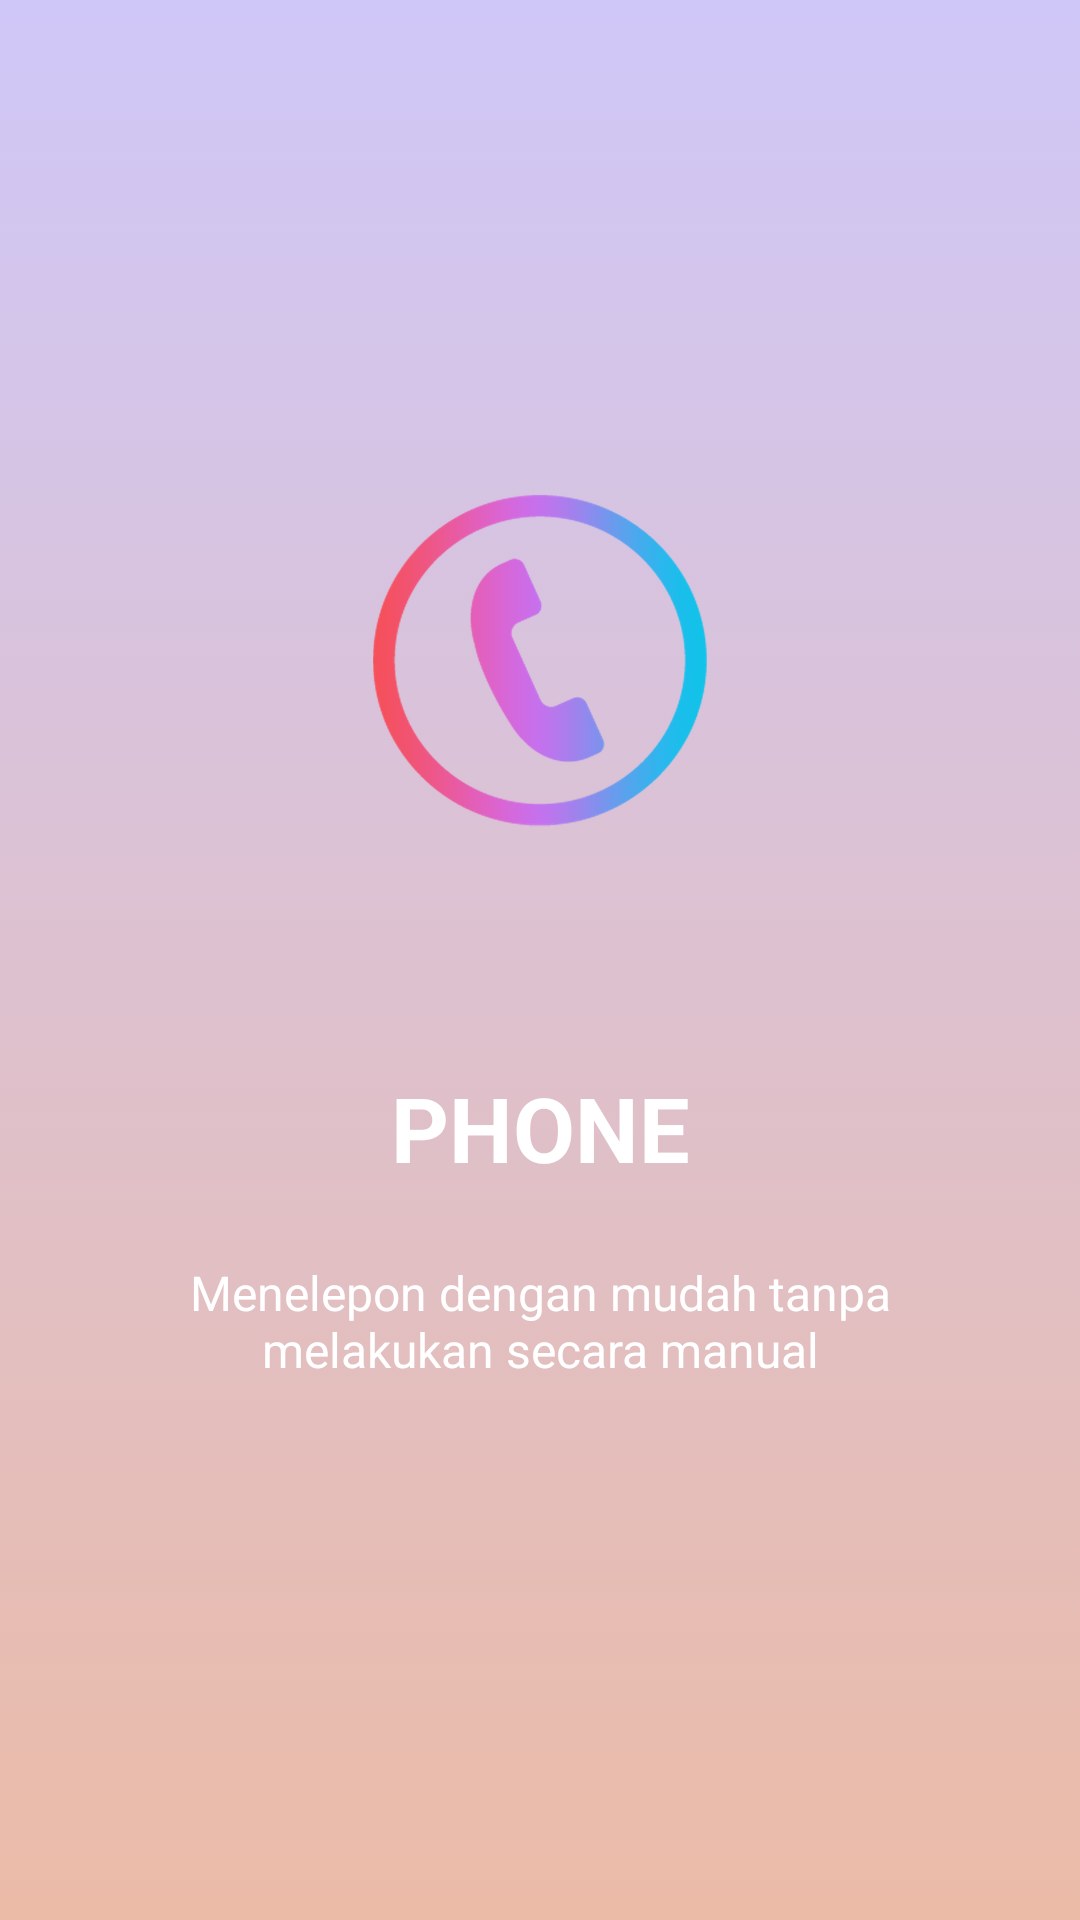

Icon bounding boxes for this 1080×1920 phone screenshot, format (x1, y1, x2, y2):
phone: (373, 495, 707, 826)
